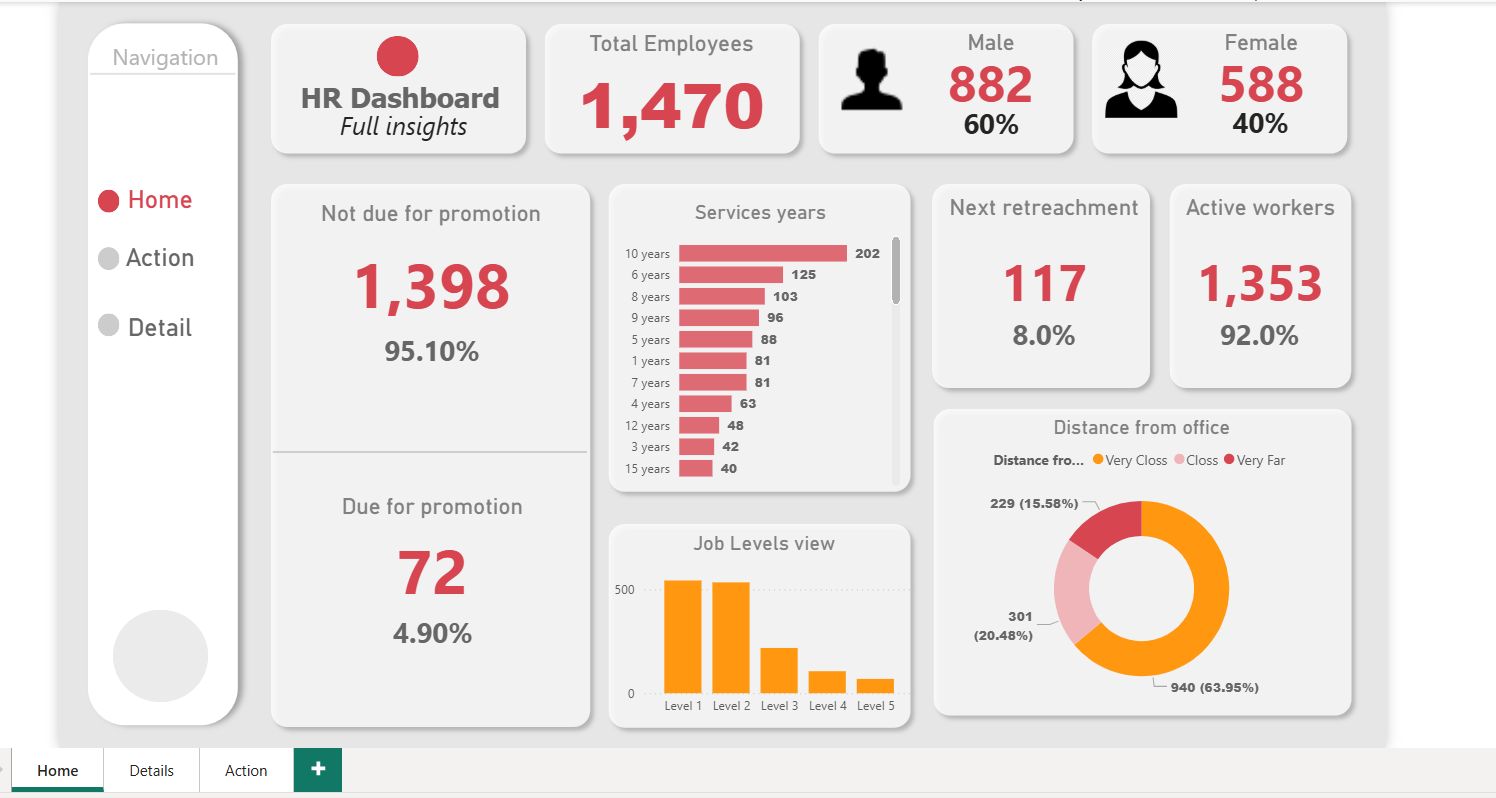

This screenshot's page, from the dashboard's own definition file:
{"tool":"powerbi","page":{"name":"Home","canvas":[1280,720],"ordinal":0},"visuals":[{"type":"shape","box":[16.5,9.6,166.5,699.2],"z":0},{"type":"shape","box":[195.4,12.4,264.3,143.1],"z":1000},{"type":"shape","box":[459.7,12.4,264.3,143.1],"z":2000},{"type":"shape","box":[724,12.4,264.3,143.1],"z":3000},{"type":"shape","box":[988.2,12.4,264.3,143.1],"z":4000},{"type":"shape","box":[195.4,166.5,326.2,542.3],"z":5000},{"type":"shape","box":[521.6,166.2,309.7,315.2],"z":6000},{"type":"shape","box":[521.6,494.1,309.7,214.7],"z":7000},{"type":"shape","box":[834.8,384.2,421.6,314.1],"z":8000},{"type":"shape","box":[833.6,166.7,228.3,215],"z":9000},{"type":"shape","box":[1063.1,166.7,193.3,215],"z":10000},{"type":"textbox","box":[209.7,71.2,238.7,51.4],"z":11000},{"type":"textbox","box":[36.9,33,130.5,51.4],"z":12000},{"type":"textbox","box":[209.7,97.6,251.9,55.4],"z":13000},{"type":"shape","box":[305.9,33,40.9,39.6],"z":14000},{"type":"card","title":"Total Employees","fields":{"Values":["All Measures.Total Emp"]},"box":[468,27.5,246.4,112.9],"z":15000},{"type":"card","title":"Male","fields":{"Values":["All Measures.Male"]},"box":[814.8,26.2,170.7,75.7],"z":16000},{"type":"card","fields":{"Values":["All Measures.Male %"]},"box":[834.1,90.8,132.1,55.1],"z":17000},{"type":"card","title":"Female","fields":{"Values":["All Measures.Female"]},"box":[1068.7,26.2,183.1,75.7],"z":18000},{"type":"card","fields":{"Values":["All Measures.Female %"]},"box":[1083.9,90.8,152.8,53.7],"z":19000},{"type":"image","box":[736.3,26.2,95,90.8],"z":20000},{"type":"actionButton","title":"Home","box":[27.8,176.4,140.1,30.2],"z":21000},{"type":"image","box":[1004.7,33,79.8,84],"z":22000},{"type":"actionButton","title":"Action","box":[27.7,233.4,139.8,56.7],"z":23000},{"type":"card","title":"Active workers","fields":{"Values":["All Measures.On service"]},"box":[1058.3,186,203,142.6],"z":24000},{"type":"actionButton","title":"Detail","box":[27.7,300.7,139.8,58],"z":25000},{"type":"card","fields":{"Values":["All Measures.% Active workers"]},"box":[1082.4,296,153.4,53.2],"z":26000},{"type":"card","title":"Next retreachment","fields":{"Values":["All Measures.Due for retirment"]},"box":[843.2,186,215,142.6],"z":27000},{"type":"card","fields":{"Values":["All Measures.%Due for retirment"]},"box":[865,296,171.5,53.2],"z":28000},{"type":"columnChart","title":"Job Levels view","fields":{"Category":["HR Analytics Data.Job Level"],"Y":["All Measures.Total Emp"]},"box":[531.3,512,300,185.8],"z":29000},{"type":"barChart","title":"Services years","fields":{"Category":["HR Analytics Data.Total working Years"],"Y":["All Measures.Total Emp"]},"box":[536.4,192.1,280.3,280.3],"z":30000},{"type":"donutChart","title":"Distance from office","fields":{"Category":["HR Analytics Data.Distance from office"],"Y":["All Measures.Total Emp"]},"box":[840.8,399.9,408.3,282.7],"z":31000},{"type":"card","title":"Not due for promotion","fields":{"Values":["All Measures.Not Due"]},"box":[207.8,192.1,303.2,130.5],"z":32000},{"type":"card","title":"Due for promotion","fields":{"Values":["All Measures.Due for promotion"]},"box":[209,473.8,303.2,119.6],"z":33000},{"type":"shape","box":[206.6,427.7,303.2,14.5],"z":34000},{"type":"card","fields":{"Values":["All Measures.% Not due for promotion"]},"box":[283.5,309.7,152.8,53.7],"z":35000},{"type":"card","fields":{"Values":["All Measures.% Due for promotion"]},"box":[285.1,582.5,152.2,53.2],"z":36000},{"type":"shape","box":[36.9,180.7,21.1,22.4],"z":37000},{"type":"shape","box":[36.9,236,21.1,22.4],"z":38000},{"type":"shape","box":[36.9,300.7,21.1,22.4],"z":39000},{"type":"shape","box":[51.4,586.8,92.3,89.7],"z":40000},{"type":"shape","box":[30.2,61.6,140.1,15.7],"z":41000}]}

Visuals, with their boxes on the page's 1280x720 design canvas (x1, y1, x2, y2). These are canvas units, not pixel positions in the 1496x798 screenshot, which may show the page scaled, cropped or inside an application window:
shape: region(16, 10, 183, 709)
shape: region(195, 12, 460, 156)
shape: region(460, 12, 724, 156)
shape: region(724, 12, 988, 156)
shape: region(988, 12, 1252, 156)
shape: region(195, 166, 522, 709)
shape: region(522, 166, 831, 481)
shape: region(522, 494, 831, 709)
shape: region(835, 384, 1256, 698)
shape: region(834, 167, 1062, 382)
shape: region(1063, 167, 1256, 382)
textbox: region(210, 71, 448, 123)
textbox: region(37, 33, 167, 84)
textbox: region(210, 98, 462, 153)
shape: region(306, 33, 347, 73)
"Total Employees" card: region(468, 28, 714, 140)
"Male" card: region(815, 26, 986, 102)
card - All Measures.Male %: region(834, 91, 966, 146)
"Female" card: region(1069, 26, 1252, 102)
card - All Measures.Female %: region(1084, 91, 1237, 144)
image: region(736, 26, 831, 117)
"Home" actionButton: region(28, 176, 168, 207)
image: region(1005, 33, 1084, 117)
"Action" actionButton: region(28, 233, 168, 290)
"Active workers" card: region(1058, 186, 1261, 329)
"Detail" actionButton: region(28, 301, 168, 359)
card - All Measures.% Active workers: region(1082, 296, 1236, 349)
"Next retreachment" card: region(843, 186, 1058, 329)
card - All Measures.%Due for retirment: region(865, 296, 1036, 349)
"Job Levels view" columnChart: region(531, 512, 831, 698)
"Services years" barChart: region(536, 192, 817, 472)
"Distance from office" donutChart: region(841, 400, 1249, 683)
"Not due for promotion" card: region(208, 192, 511, 323)
"Due for promotion" card: region(209, 474, 512, 593)
shape: region(207, 428, 510, 442)
card - All Measures.% Not due for promotion: region(284, 310, 436, 363)
card - All Measures.% Due for promotion: region(285, 582, 437, 636)
shape: region(37, 181, 58, 203)
shape: region(37, 236, 58, 258)
shape: region(37, 301, 58, 323)
shape: region(51, 587, 144, 676)
shape: region(30, 62, 170, 77)
